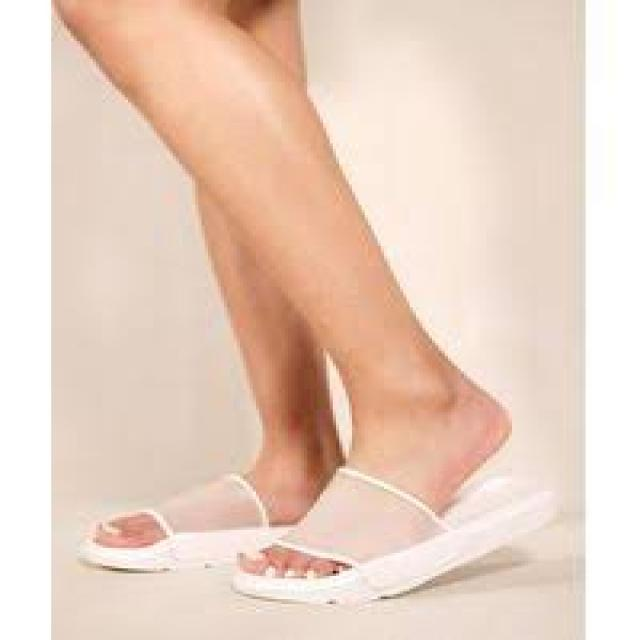Sandals: (233, 377, 561, 605)
